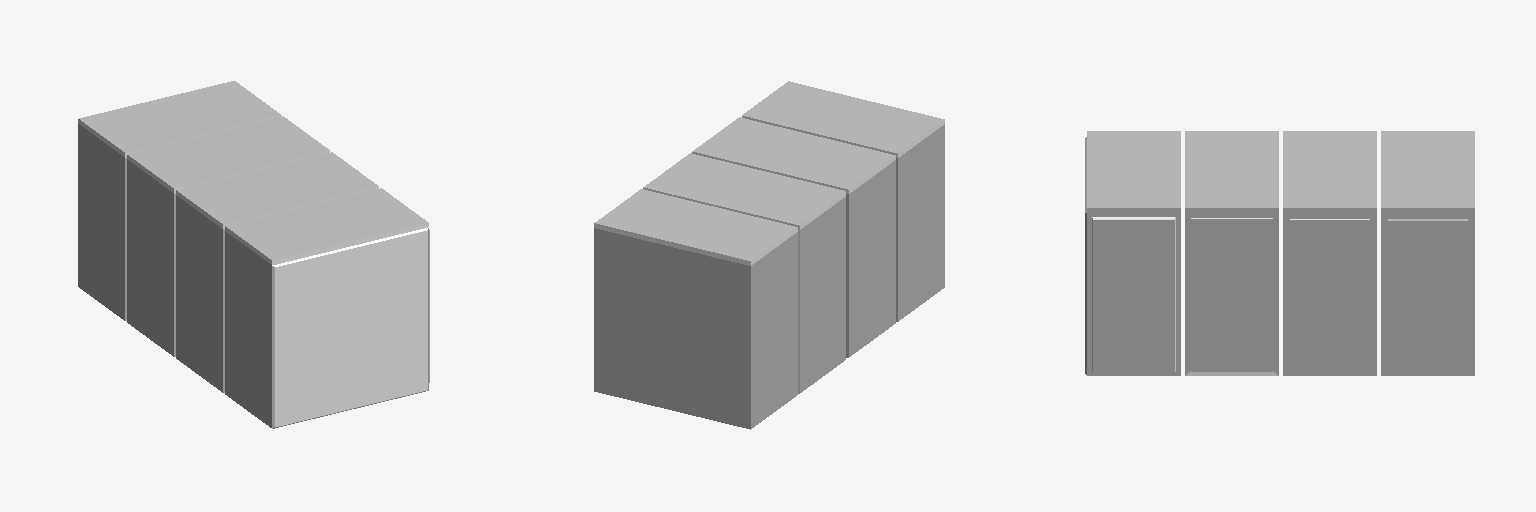
Rendered from other.obj.
The picture shows the model from 3 angles: view 1: azimuth 30°, elevation 25°; view 2: azimuth 150°, elevation 25°; view 3: azimuth 270°, elevation 25°; orthographic projection.
Parts seen in each view (by area): view 1: server; view 2: server; view 3: server.
Part boxes in pixels (bbox=[...]): server: bbox=[78, 81, 429, 428]; server: bbox=[594, 81, 944, 429]; server: bbox=[1085, 131, 1474, 375].
Bounding box in the file's own units: 205 × 209 × 432.